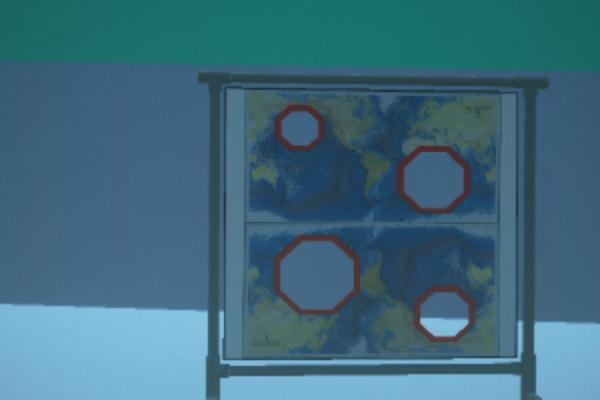torpille: (208, 72, 536, 376)
torpille_target: (274, 236, 360, 314), (397, 145, 470, 213), (413, 284, 475, 342), (274, 104, 324, 152)
